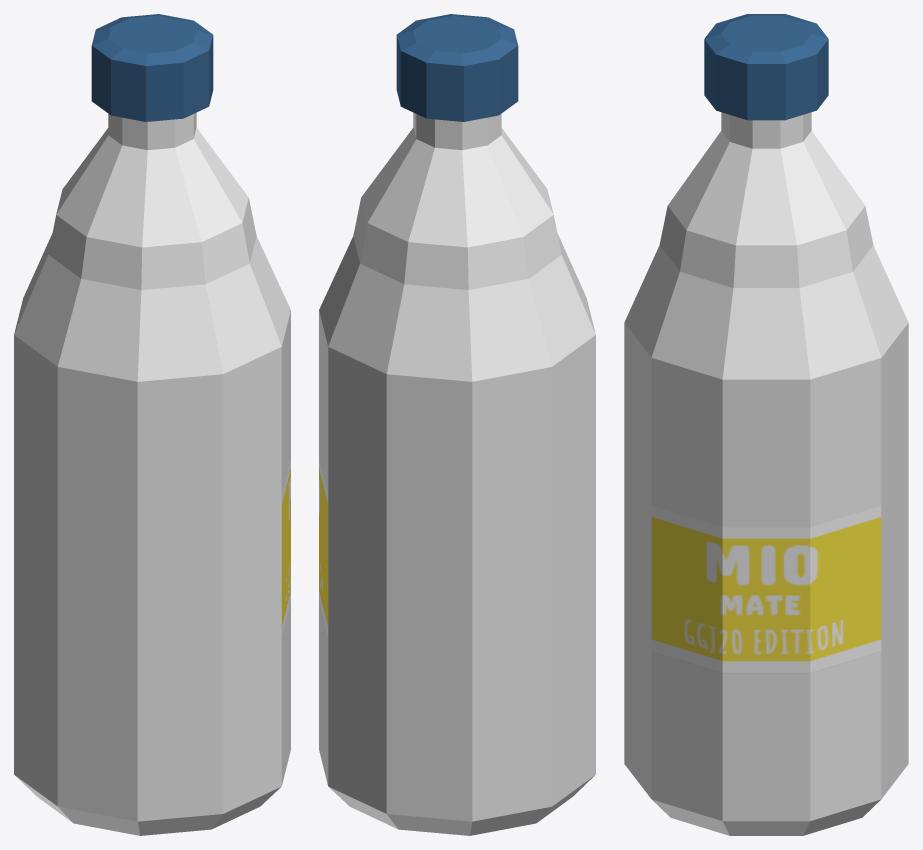
Rendered from GGJ_Mate.fbx.
3 views of the same model, side by side, from view 1: azimuth 30°, elevation 25°; view 2: azimuth 150°, elevation 25°; view 3: azimuth 270°, elevation 25° (orthographic).
Visible parts, largest first — view 1: Mate; view 2: Mate; view 3: Mate.
Boxes of the visible parts, box(x1,y1,x2,y2) form: Mate: box(14, 14, 290, 835); Mate: box(319, 14, 595, 835); Mate: box(624, 14, 908, 835).
Size of the model in its own units: 10.3 by 31.72 by 10.83.
Materials: 1 (1 with a texture image).
